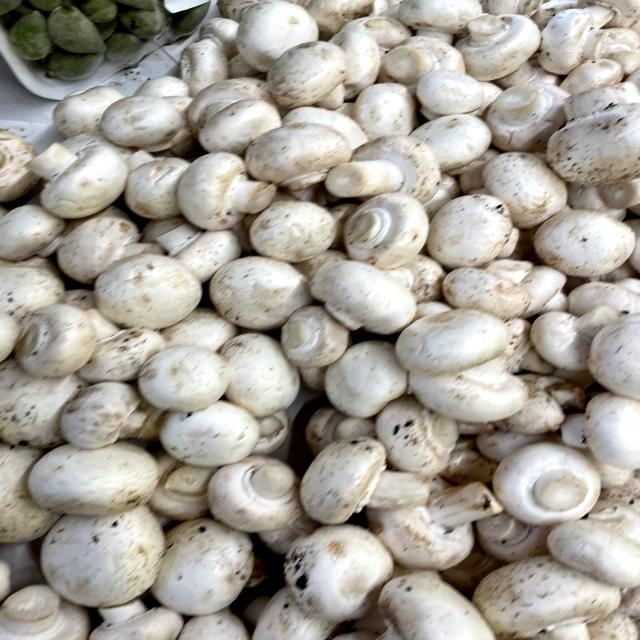mushroom: (318, 131, 446, 212), (326, 187, 442, 272), (249, 36, 372, 116), (204, 449, 313, 538), (173, 148, 280, 236), (478, 76, 586, 154)
